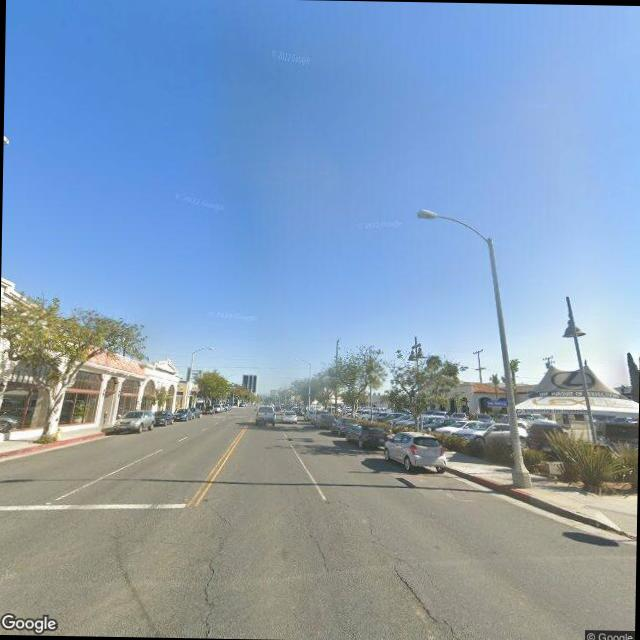pothole: (375, 551, 481, 640), (192, 536, 228, 638), (302, 523, 330, 575)
